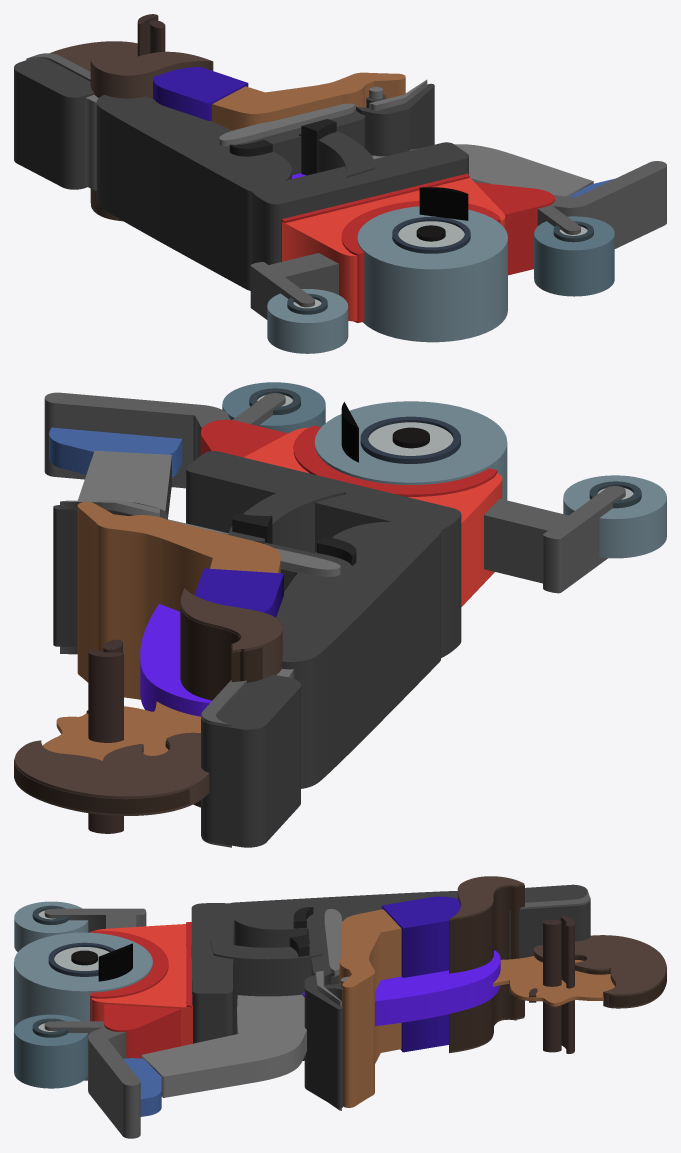
The model's file is emoji_u1f469_1f3fe_200d_1f9bc_200d_27a1.glb.
3 views of the same model, one above another, from view 1: azimuth 30°, elevation 25°; view 2: azimuth 150°, elevation 25°; view 3: azimuth 270°, elevation 25° (orthographic). The views are drawn at different scales.
Parts seen in each view (by area): view 1: emoji_u1f469_1f3fe_200d_1f9bc_200d_27a1; view 2: emoji_u1f469_1f3fe_200d_1f9bc_200d_27a1; view 3: emoji_u1f469_1f3fe_200d_1f9bc_200d_27a1.
Part boxes in pixels (bbox=[...]): emoji_u1f469_1f3fe_200d_1f9bc_200d_27a1: bbox=[14, 14, 666, 353]; emoji_u1f469_1f3fe_200d_1f9bc_200d_27a1: bbox=[14, 382, 666, 847]; emoji_u1f469_1f3fe_200d_1f9bc_200d_27a1: bbox=[14, 876, 666, 1138].
Size of the model in its own units: 0.0238 by 0.0076 by 0.0334.
